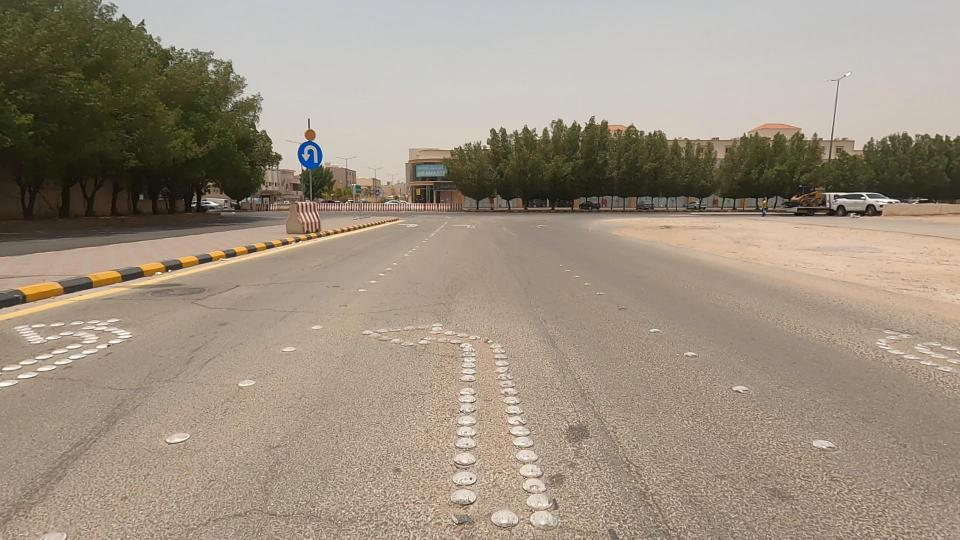CONSTRUCTION_ROAD: (287, 189, 429, 228), (334, 189, 477, 220)
